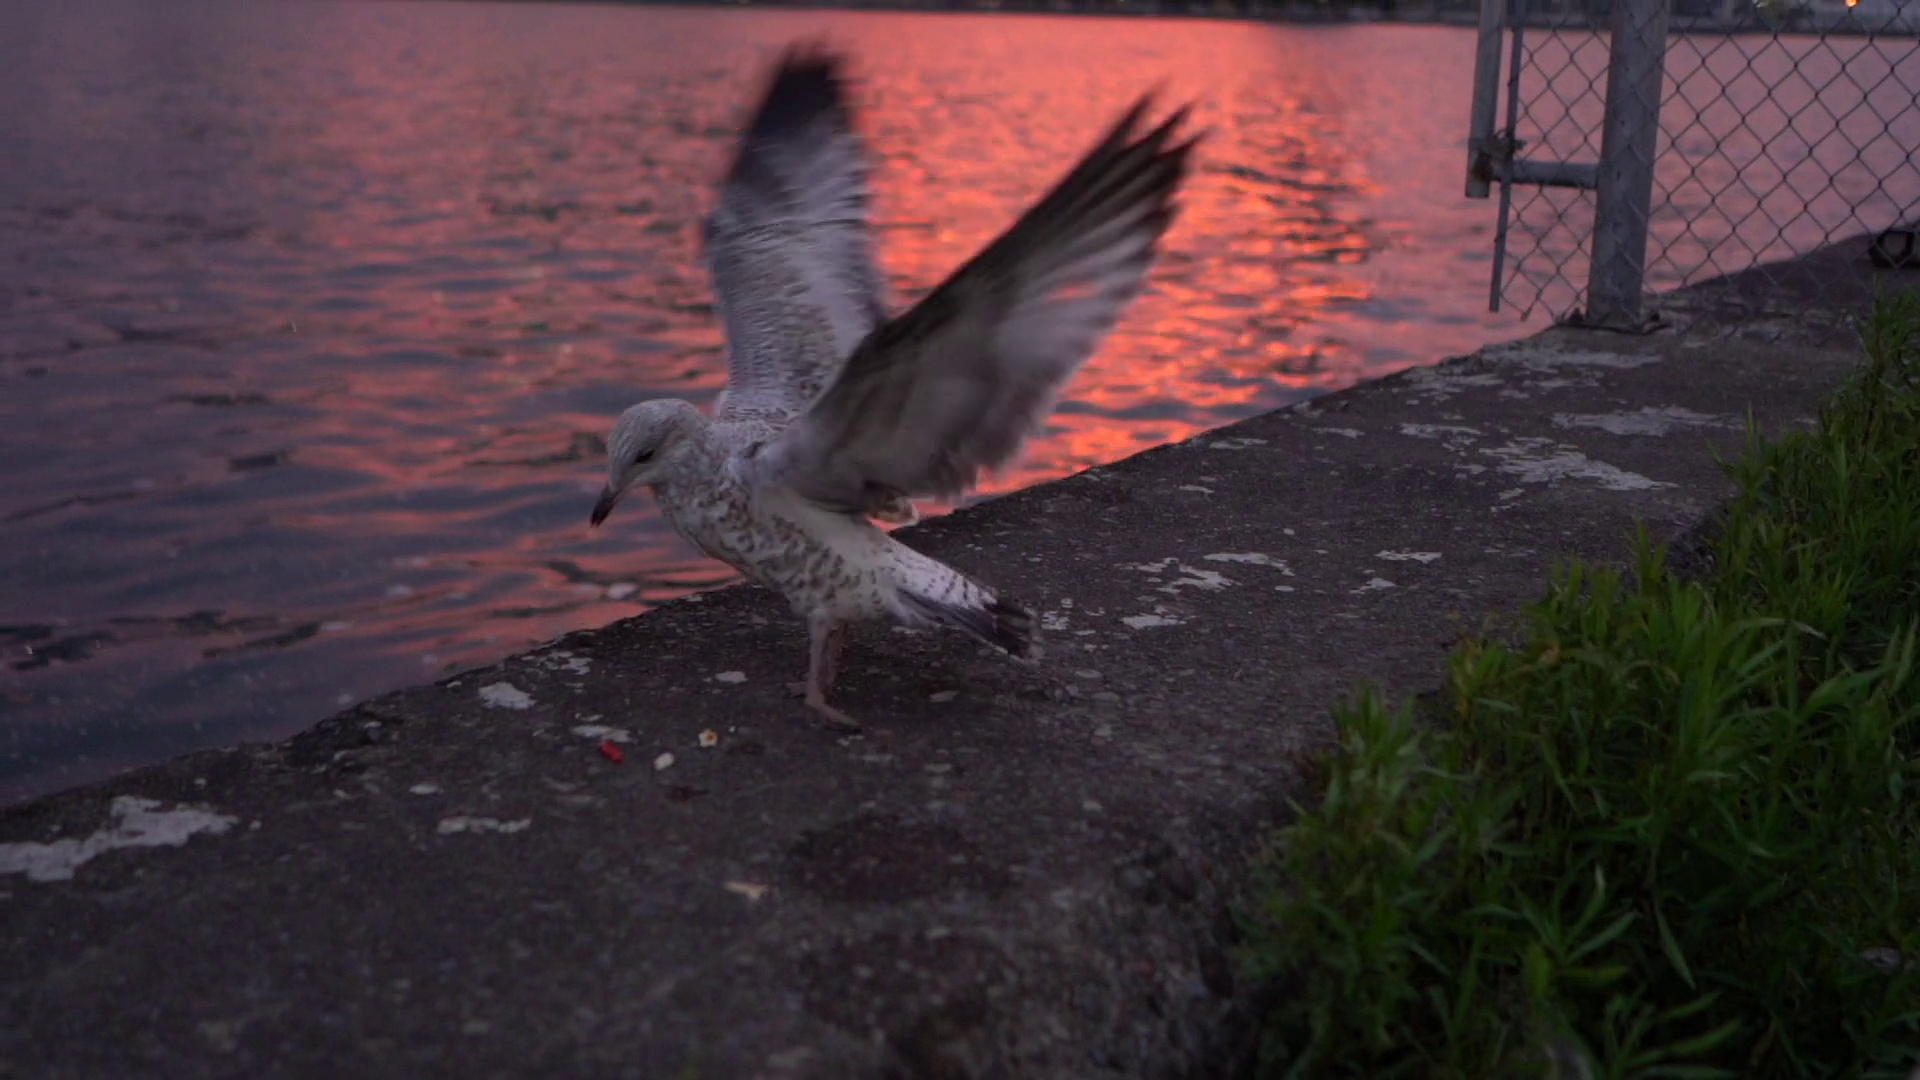bird: (585, 37, 1196, 731)
